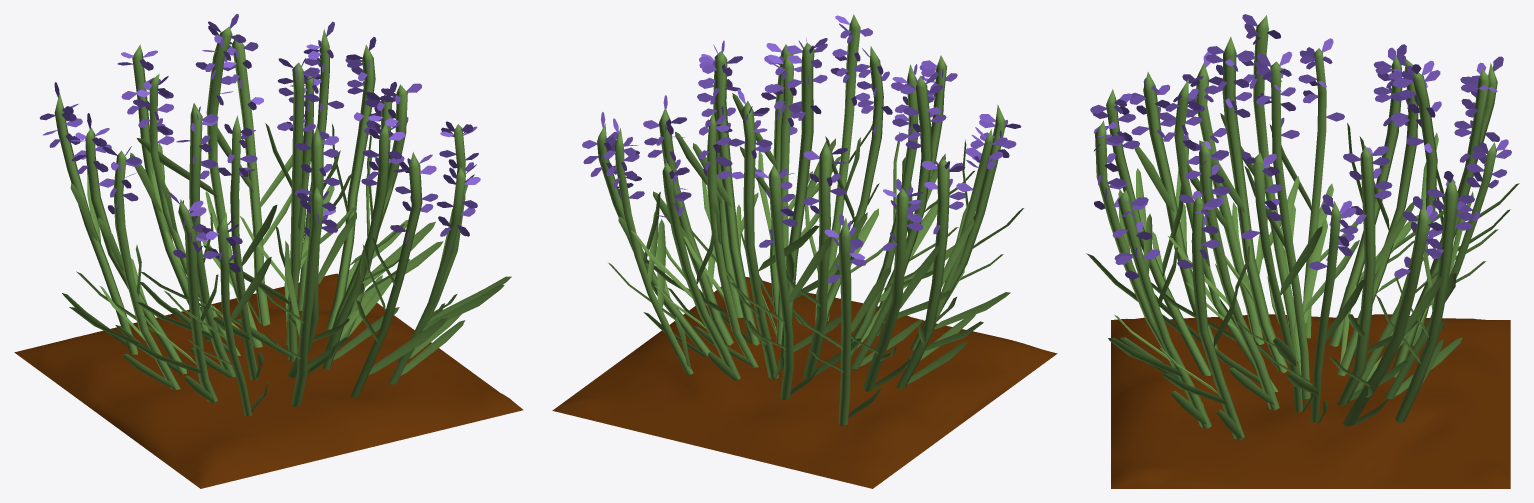
Rendered from lavender-p2-leaf.glb.
3 renders of one model, left to right at view 1: azimuth 30°, elevation 25°; view 2: azimuth 150°, elevation 25°; view 3: azimuth 270°, elevation 25°, orthographic. The views are drawn at different scales.
Parts seen in each view (by area): view 1: 2_nft_out_of_bloom; view 2: 2_nft_out_of_bloom; view 3: 2_nft_out_of_bloom.
Boxes of the visible parts, x1,y1,x2,y2 form: 2_nft_out_of_bloom: [14, 14, 523, 488]; 2_nft_out_of_bloom: [552, 14, 1057, 488]; 2_nft_out_of_bloom: [1086, 14, 1519, 488].
Bounding box in the file's own units: 0.7888 × 0.6837 × 0.7596.
